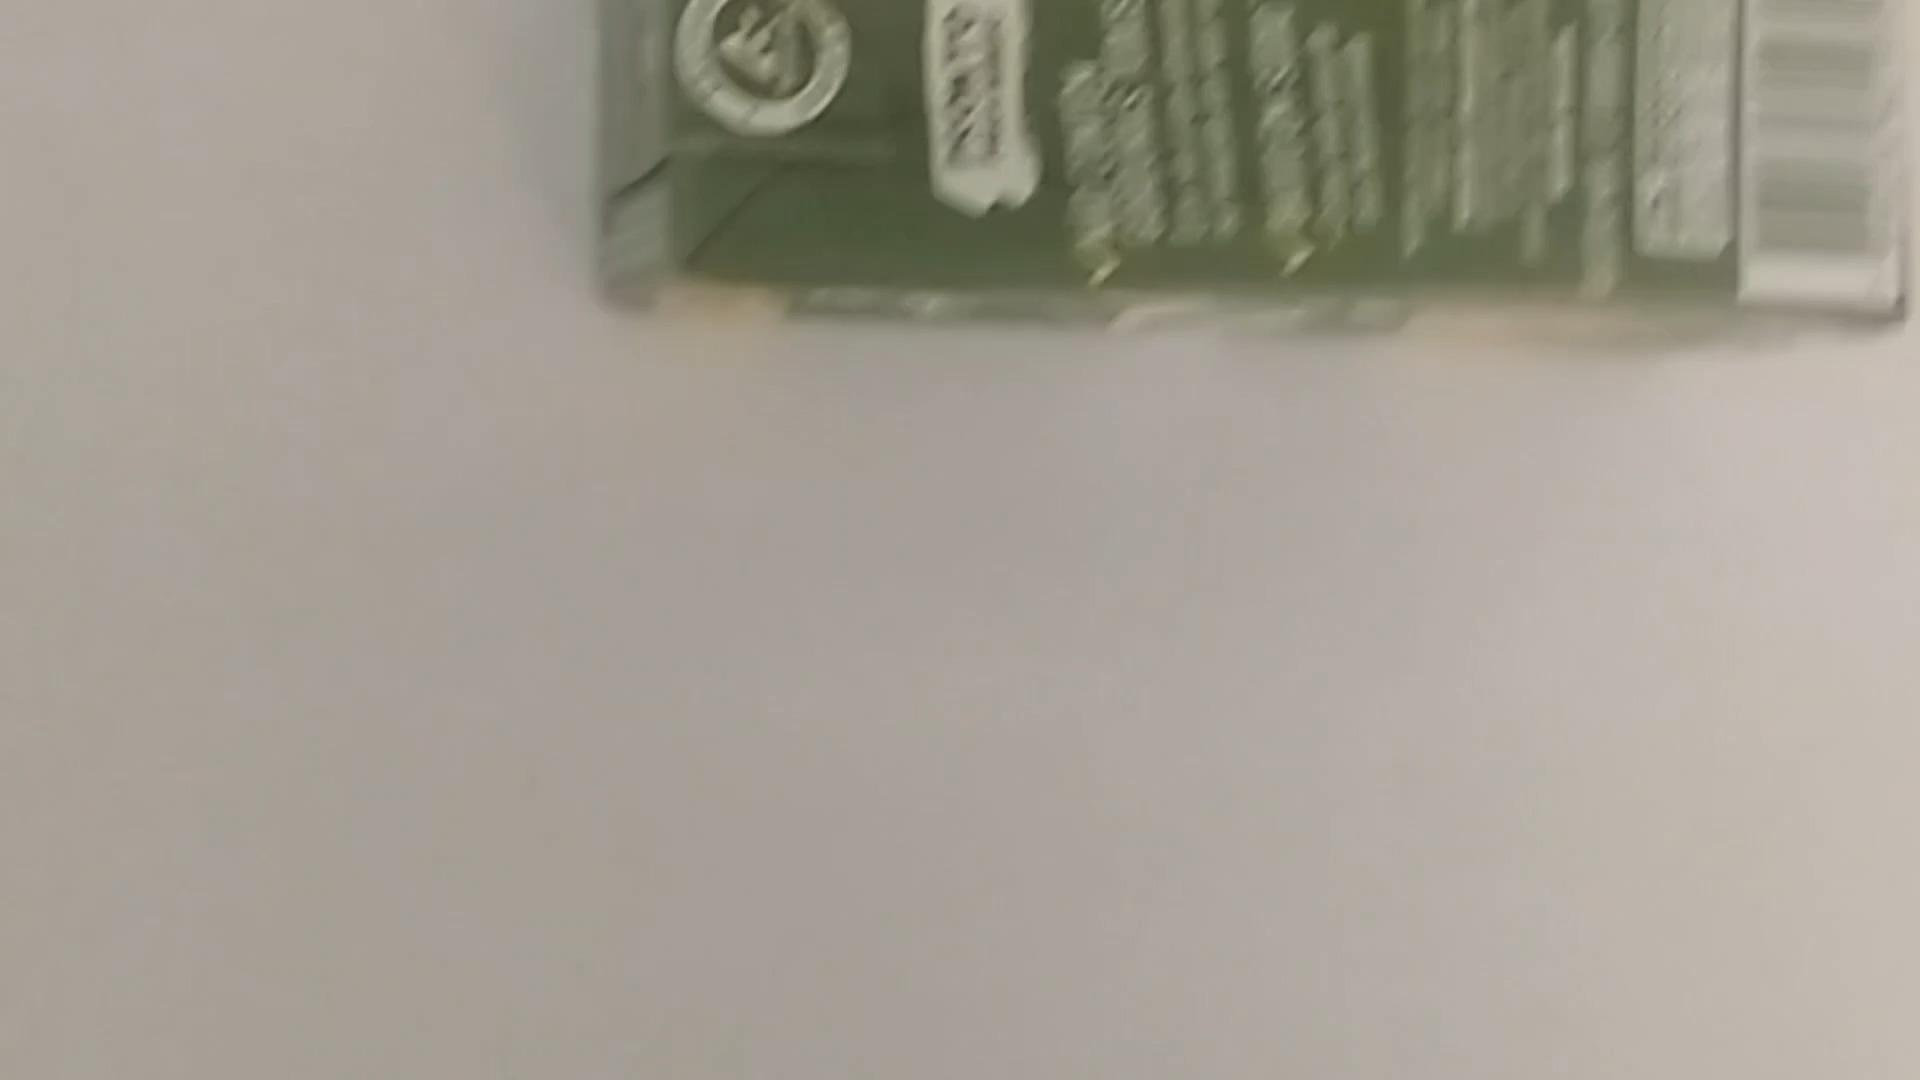coco: (585, 0, 1920, 332)
